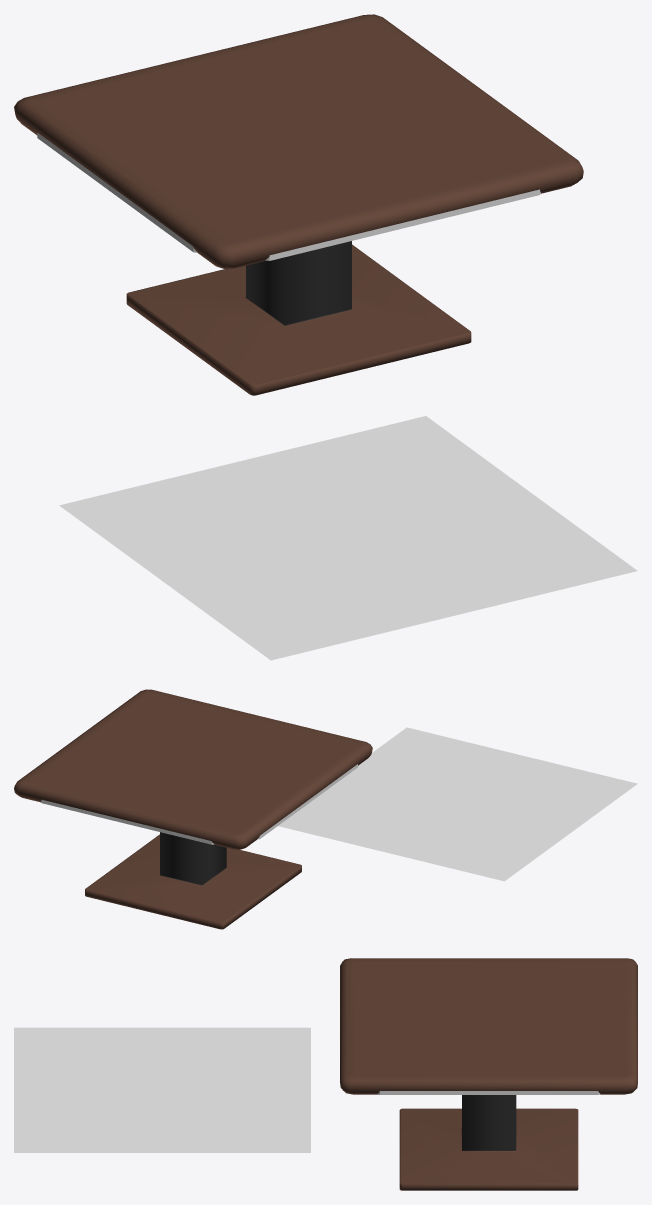
The model's file is simple_table.fbx.
3 views of the same model, one above another, from view 1: azimuth 30°, elevation 25°; view 2: azimuth 150°, elevation 25°; view 3: azimuth 270°, elevation 25° (orthographic). The views are drawn at different scales.
Visible parts, largest first — view 1: Cube.001, Plane, Cube; view 2: Cube.001, Plane, Cube; view 3: Cube.001, Plane, Cube.
Boxes of the visible parts, bbox=[...] form: Cube.001: bbox=[14, 14, 583, 395]; Plane: bbox=[59, 416, 637, 660]; Cube: bbox=[37, 132, 540, 260]; Cube.001: bbox=[14, 689, 372, 929]; Plane: bbox=[278, 727, 637, 881]; Cube: bbox=[41, 764, 357, 844]; Cube.001: bbox=[340, 958, 637, 1190]; Plane: bbox=[14, 1027, 310, 1152]; Cube: bbox=[378, 1091, 600, 1094].
Bounding box in the file's own units: 300 × 100 × 420.
